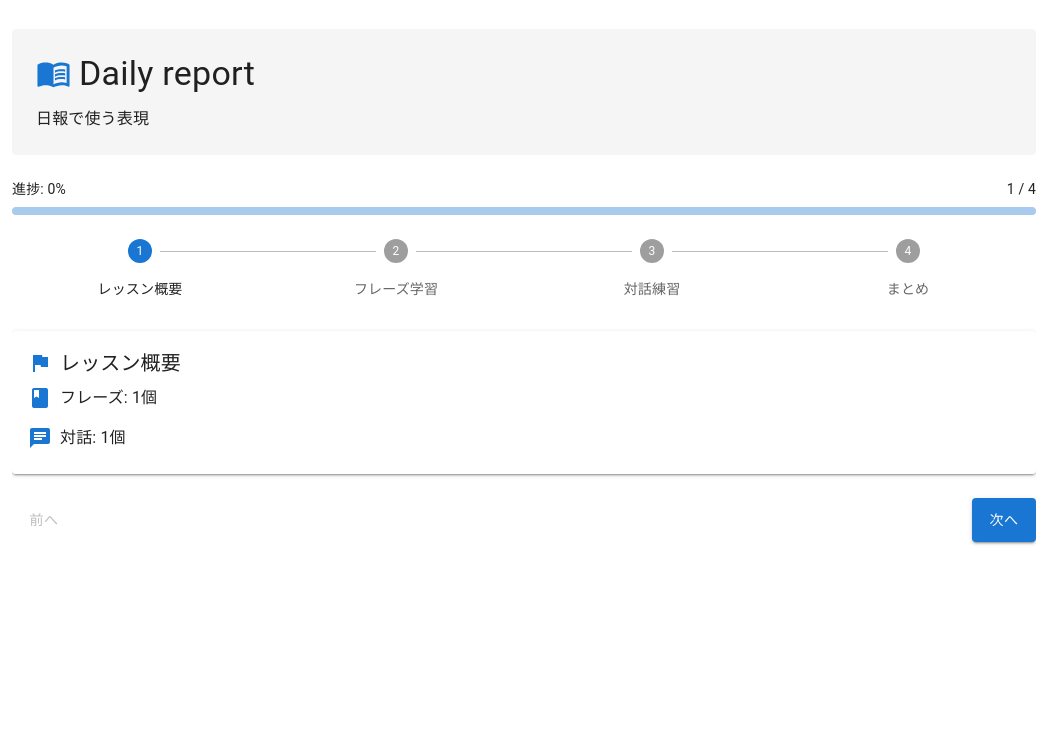
Test: 「次のレッスンへ」で同じシーンの次のレッスンを最初のステップから始める
Click the button "次へ". click: coordinates (1004, 520)
box: [972,498,1036,542]
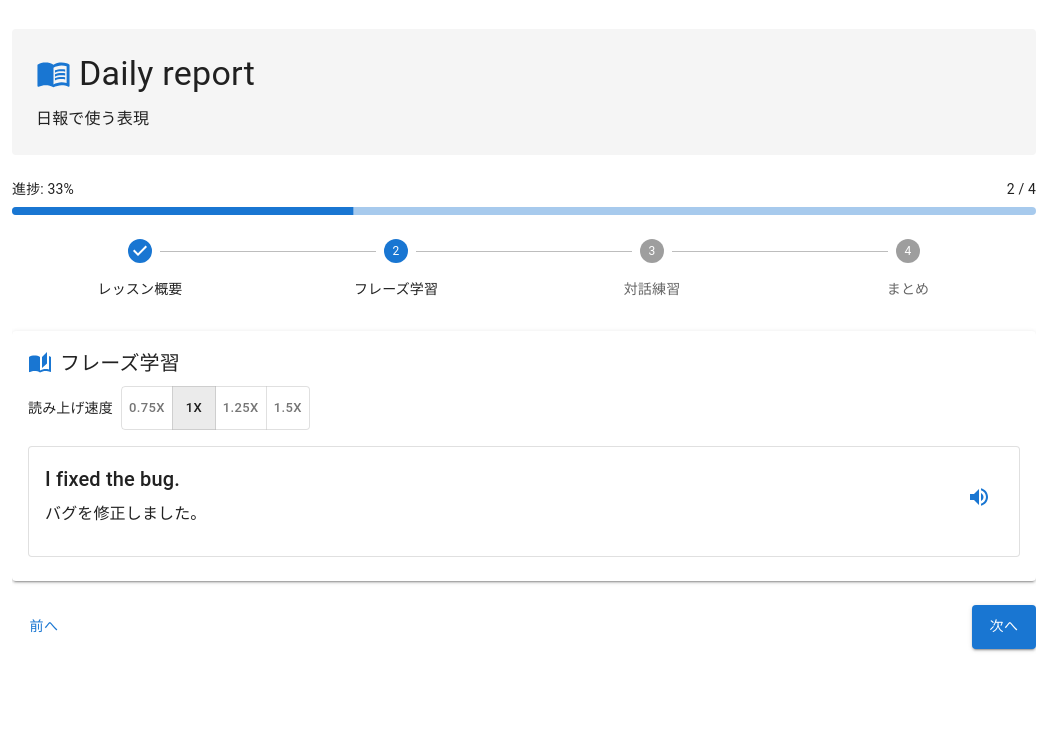
Click the button "次へ". click: coordinates (1004, 626)
box: [972,604,1036,648]
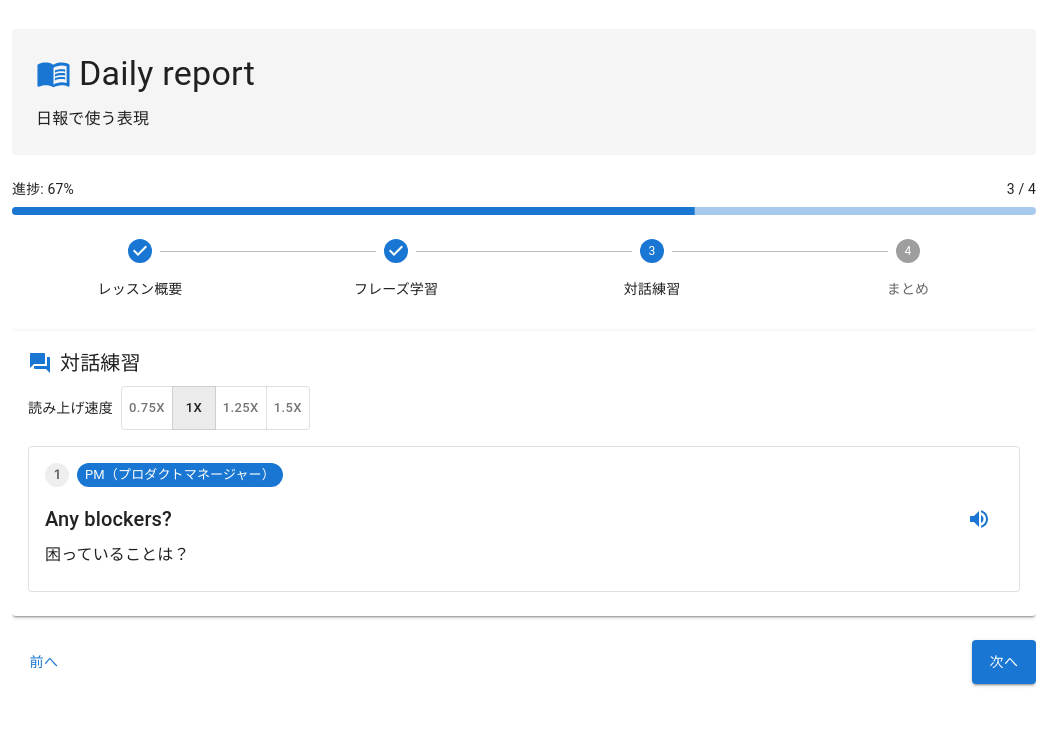
Click the button "次へ". click: coordinates (1004, 662)
box: [972,640,1036,684]
(page scrolled)
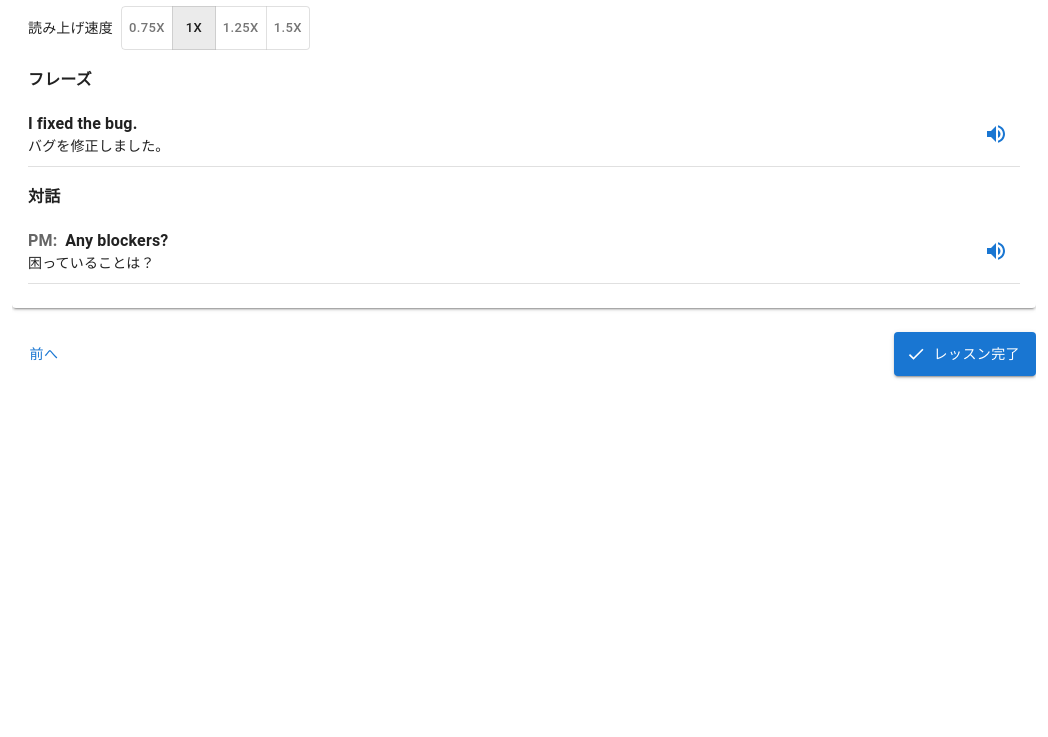
Click the button "レッスン完了". click: coordinates (965, 354)
box: [894,332,1036,376]
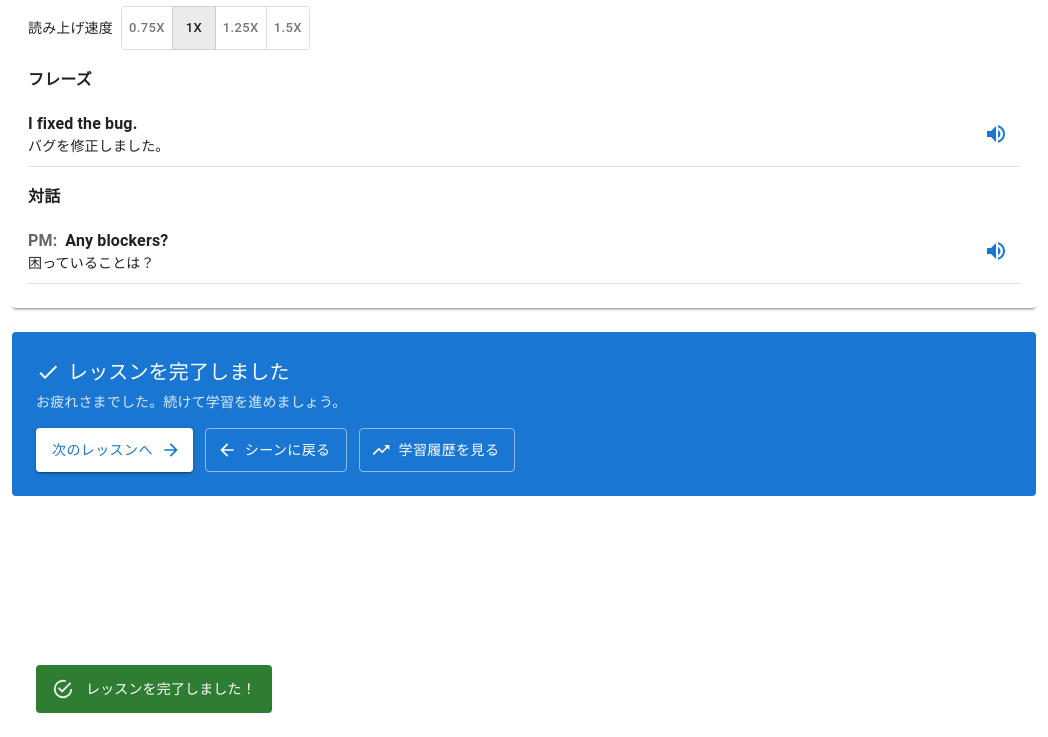
Click the link with aria-label "次のレッスンへ: Blockers". click: coordinates (114, 450)
box: [36,428,193,472]
(page scrolled)
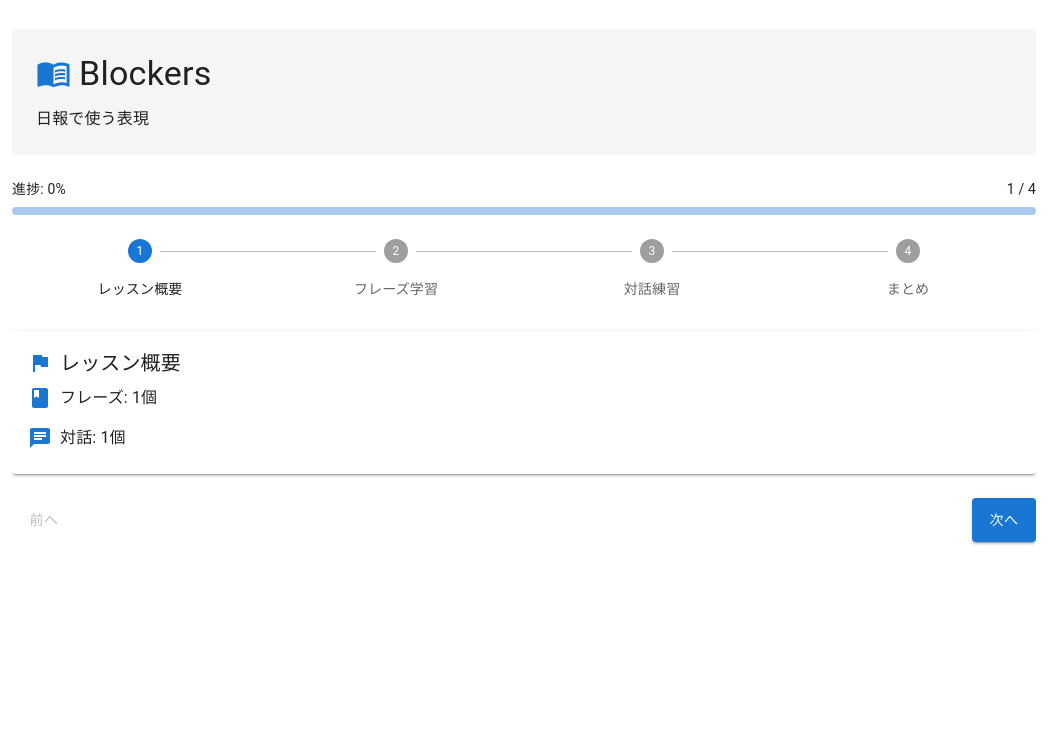
Expected: the heading "Blockers" is shown, [36,53,212,93]
Expected: the text "進捗: 0%" is shown, [12,179,66,199]
Expected: the button "次へ" is shown, [972,498,1036,542]
